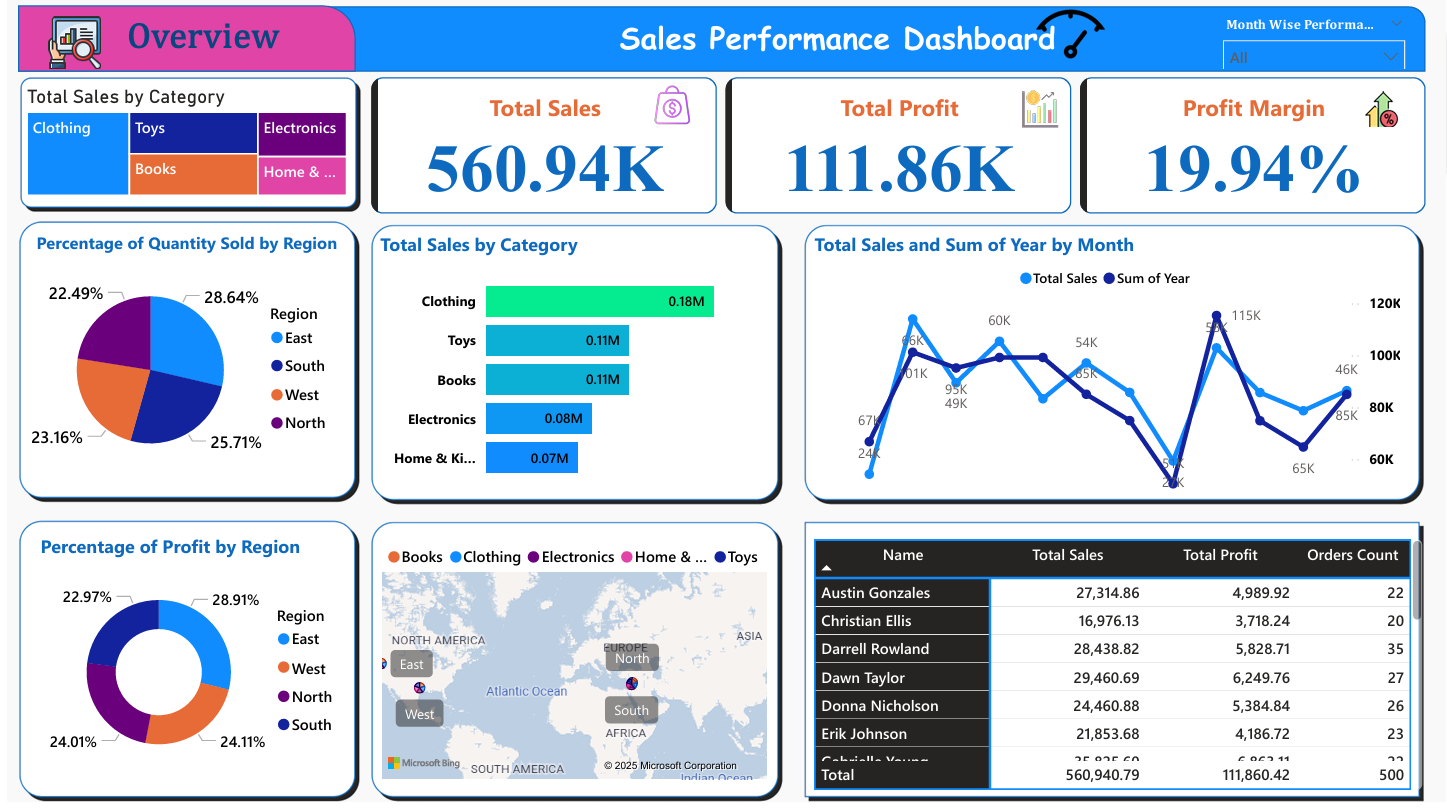

Layout of this report page (visuals, bound fields, positions):
{"tool":"powerbi","page":{"name":"Page 1","canvas":[1280,720],"ordinal":0},"visuals":[{"type":"shape","box":[317.9,464.7,371.7,255.6],"z":0},{"type":"shape","box":[317.9,200.5,371.7,255.6],"z":1000},{"type":"cardVisual","fields":{"Data":["sales.Total Sales","sales.Total Profit","sales.Profit Margin"]},"box":[317.9,69.7,947.7,130.8],"z":2000},{"type":"shape","box":[703.1,200.5,556.4,255.6],"z":3000},{"type":"clusteredBarChart","title":" Total Sales by Category","fields":{"Category":["products.Category"],"Y":["sales.Total Sales"]},"box":[326.5,211.6,343.6,234.8],"z":4000},{"type":"lineChart","title":"Total Sales and Sum of Year by Month","fields":{"Category":["sales.MonthNum"],"Y":["sales.Total Sales"],"Y2":["sales.Year"]},"box":[711.7,211.6,530.7,234.8],"z":5000},{"type":"shape","box":[703.1,464.7,556.4,255.6],"z":6000},{"type":"shape","box":[8.6,12.2,1251,57.5],"z":7000},{"type":"map","fields":{"Category":["salespersons.Region"],"Y":["sales.Total Sales"],"Series":["products.Category"]},"box":[327.7,480.6,352.2,223.8],"z":8000},{"type":"shape","box":[4.9,198.1,309.4,255.6],"z":9000},{"type":"pivotTable","fields":{"Rows":["salespersons.Name"],"Values":["sales.Total Sales","sales.Total Profit","sales.Orders Count"]},"box":[711.7,480.6,550.3,232.3],"z":10000},{"type":"shape","box":[4.9,464.4,309.4,255.6],"z":11000},{"type":"shape","box":[8.6,11,300.8,58.7],"z":12000},{"type":"donutChart","title":"Percentage of  Profit by Region","fields":{"Y":["sales.Total Profit"],"Category":["sales.Region"]},"box":[24.5,480.6,284.9,223.8],"z":13000},{"type":"pieChart","title":"Percentage  of Quantity Sold by Region","fields":{"Y":["sales.Quantity"],"Category":["sales.Region"]},"box":[14.7,211.6,288.6,226.2],"z":14000},{"type":"textbox","box":[44,15.9,259.2,51.4],"z":15000},{"type":"image","box":[14.7,15.9,89.3,57.5],"z":16000},{"type":"textbox","box":[518.5,15.9,439,48.9],"z":17000},{"type":"image","box":[895.1,0,99,73.4],"z":18000},{"type":"shape","box":[6.1,69.7,309.4,126],"z":19000},{"type":"treemap","fields":{"Group":["products.Category"],"Values":["sales.Total Sales"]},"box":[12.2,81.9,293.5,102.7],"z":20000},{"type":"image","box":[1199.6,81.9,42.8,42.8],"z":21000},{"type":"image","box":[566.2,73.4,48.9,51.4],"z":22000},{"type":"image","box":[895.1,81.9,45.2,42.8],"z":23000},{"type":"slicer","fields":{"Values":["sales.Month"]},"box":[1070,15.9,182.2,51.4],"z":24000}]}

Visuals, with their boxes in screenshot pixels (x1, y1, x2, y2), scaled from the page's 1280x720 canvas onto the 1447x812 screenshot:
shape: rect(359, 524, 780, 811)
shape: rect(359, 226, 780, 514)
cardVisual - sales.Total Sales x sales.Total Profit: rect(359, 79, 1431, 226)
shape: rect(795, 226, 1424, 514)
" Total Sales by Category" clusteredBarChart: rect(369, 239, 758, 503)
"Total Sales and Sum of Year by Month" lineChart: rect(805, 239, 1404, 503)
shape: rect(795, 524, 1424, 811)
shape: rect(10, 14, 1424, 79)
map - salespersons.Region x sales.Total Sales: rect(370, 542, 769, 794)
shape: rect(6, 223, 355, 512)
pivotTable - salespersons.Name x sales.Total Sales: rect(805, 542, 1427, 804)
shape: rect(6, 524, 355, 811)
shape: rect(10, 12, 350, 79)
"Percentage of  Profit by Region" donutChart: rect(28, 542, 350, 794)
"Percentage  of Quantity Sold by Region" pieChart: rect(17, 239, 343, 494)
textbox: rect(50, 18, 343, 76)
image: rect(17, 18, 118, 83)
textbox: rect(586, 18, 1082, 73)
image: rect(1012, 0, 1124, 83)
shape: rect(7, 79, 357, 221)
treemap - products.Category x sales.Total Sales: rect(14, 92, 346, 208)
image: rect(1356, 92, 1404, 141)
image: rect(640, 83, 695, 141)
image: rect(1012, 92, 1063, 141)
slicer - sales.Month: rect(1210, 18, 1416, 76)
